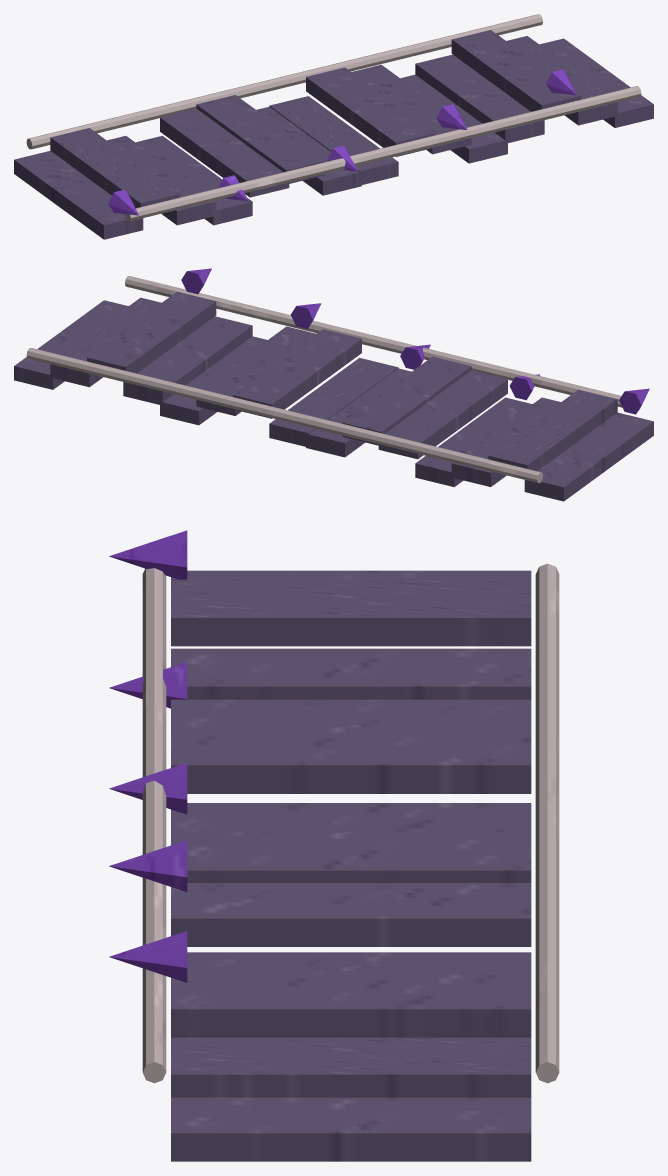
File: fractured_bridge_lod0.glb
The picture shows the model from 3 angles, top to bottom: view 1: azimuth 30°, elevation 25°; view 2: azimuth 150°, elevation 25°; view 3: azimuth 270°, elevation 25°; orthographic projection. The views are drawn at different scales.
Visible parts, largest first — view 1: bone_21, bone_20, ash_11, ash_0, ash_16, ash_2, ash_6, ash_15, ash_7, ash_10, ash_4, ash_19 (+9 smaller); view 2: bone_20, ash_0, ash_16, ash_11, ash_2, ash_6, bone_21, ash_15, ash_7, ash_10, ash_12, ash_4 (+10 smaller); view 3: ash_2, ash_16, ash_7, ash_19, ash_12, ash_18, ash_3, ash_11, bone_20, bone_21, ash_8, ash_6 (+8 smaller).
Part boxes in pixels (x1,y1,x2,y2): bone_21: [125, 86, 641, 221]; bone_20: [26, 14, 542, 149]; ash_11: [306, 67, 434, 156]; ash_0: [14, 150, 143, 239]; ash_16: [451, 30, 580, 111]; ash_2: [50, 128, 179, 207]; ash_6: [160, 108, 289, 197]; ash_15: [415, 54, 544, 143]; ash_7: [196, 95, 325, 184]; ash_10: [269, 96, 398, 184]; ash_4: [135, 136, 252, 225]; ash_19: [539, 38, 653, 127]; bone_20: [26, 348, 542, 483]; ash_0: [524, 412, 653, 501]; ash_16: [87, 291, 216, 373]; ash_11: [233, 329, 361, 418]; ash_2: [488, 389, 617, 470]; ash_6: [378, 370, 507, 459]; bone_21: [125, 276, 640, 410]; ash_15: [123, 316, 252, 405]; ash_7: [342, 356, 471, 445]; ash_10: [269, 358, 398, 446]; ash_12: [196, 326, 316, 415]; ash_4: [415, 397, 532, 487]; ash_2: [171, 579, 531, 646]; ash_16: [171, 971, 531, 1037]; ash_7: [171, 727, 531, 793]; ash_19: [171, 1097, 531, 1161]; ash_12: [171, 883, 531, 946]; ash_18: [171, 1037, 531, 1097]; ash_3: [171, 648, 531, 699]; ash_11: [171, 832, 531, 882]; bone_20: [535, 563, 559, 1083]; bone_21: [142, 568, 166, 1083]; ash_8: [171, 803, 531, 832]; ash_6: [171, 699, 531, 727].
Bounding box in the file's own units: 19.38 × 2.27 × 6.88.
3 materials, 3 textured.
